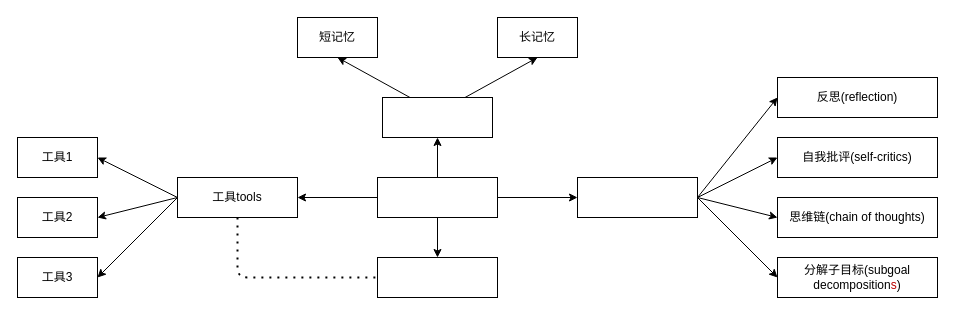
Some shapes in this 955 by 315 pixel diagram are drawn without their labels. Each missing label, with the centre of its shape:
agent: point 437,197
执行action: point 437,277
计划planning: point 637,197
记忆memory: point 437,117
